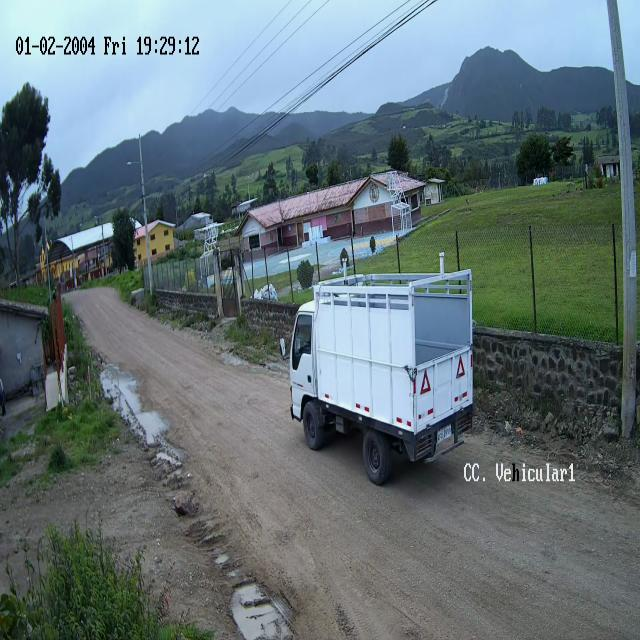TRUCK: (285, 272, 475, 488)
